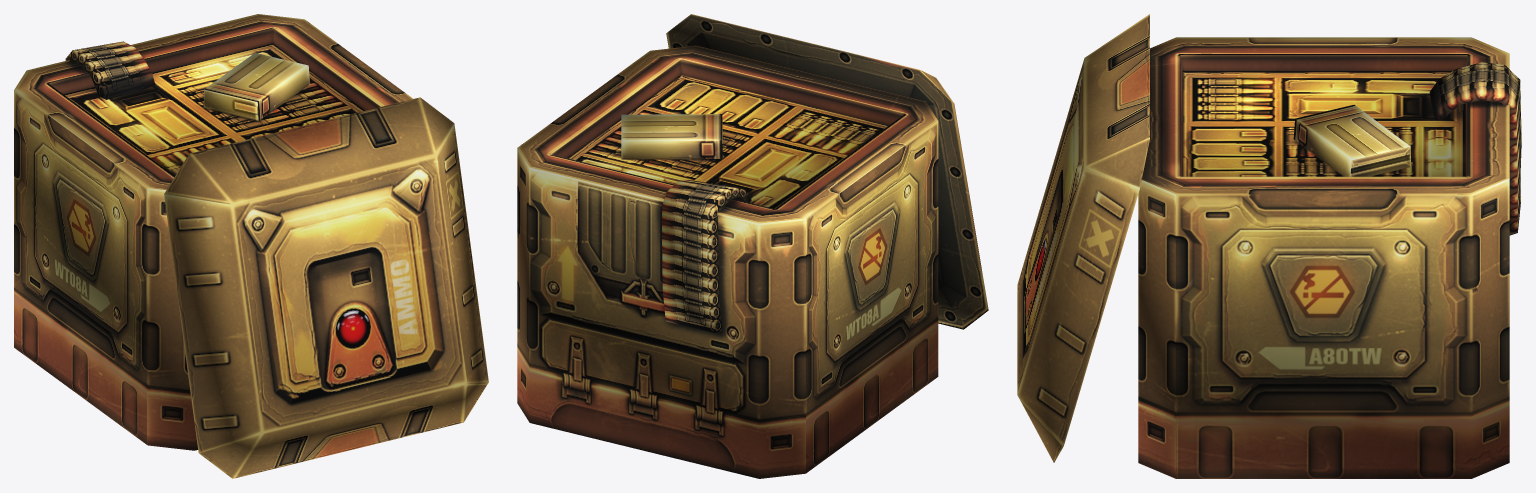
Rendered from ammobox.FBX.
The picture shows the model from 3 angles, left to right: view 1: azimuth 30°, elevation 25°; view 2: azimuth 150°, elevation 25°; view 3: azimuth 270°, elevation 25°; orthographic projection. The views are drawn at different scales.
Visible parts, largest first — view 1: ammobox; view 2: ammobox; view 3: ammobox.
Boxes of the visible parts, x1,y1,x2,y2 form: ammobox: (14,14,488,478); ammobox: (517,14,988,478); ammobox: (1017,14,1521,478).
Bounding box in the file's own units: 130 × 125 × 177.
Materials: 1 (1 with a texture image).
